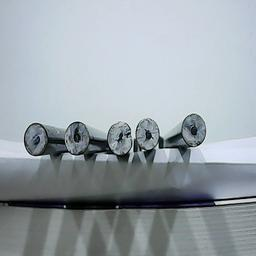pen: (21, 122, 49, 155), (62, 120, 90, 153), (105, 120, 133, 153), (133, 117, 161, 150), (180, 113, 208, 146)
